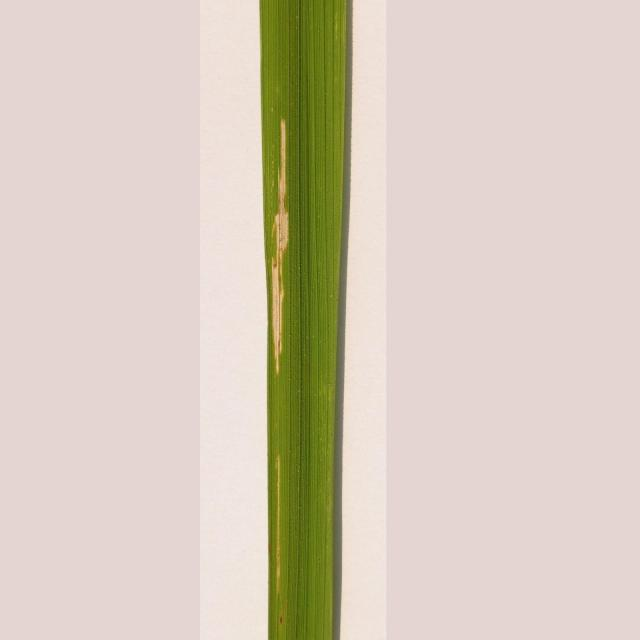leaf blight: (264, 117, 305, 381), (269, 449, 289, 586)
